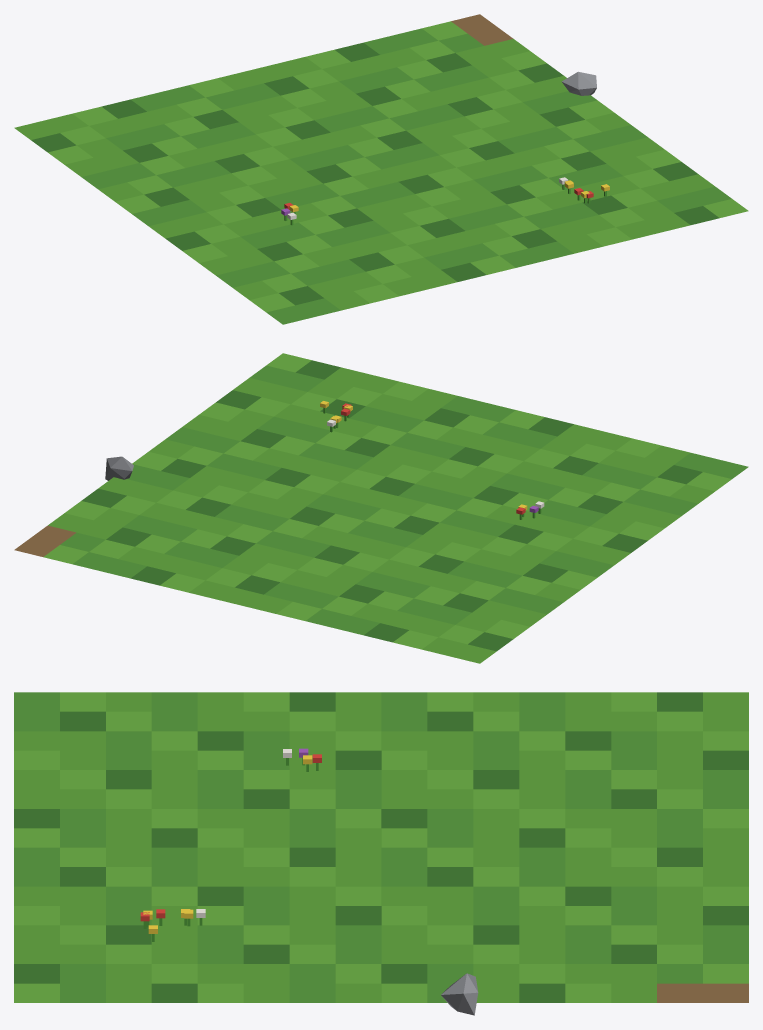
Rendered from chunk_5_7.glb.
The picture shows the model from 3 angles, top to bottom: view 1: azimuth 30°, elevation 25°; view 2: azimuth 150°, elevation 25°; view 3: azimuth 270°, elevation 25°; orthographic projection. The views are drawn at different scales.
Parts seen in each view (by area): view 1: chunk_5_7; view 2: chunk_5_7; view 3: chunk_5_7.
Part boxes in pixels (box(x1,y1,x2,y2)): chunk_5_7: box(14, 14, 748, 324); chunk_5_7: box(14, 353, 748, 663); chunk_5_7: box(14, 692, 748, 1015).
Bounding box in the file's own units: 16.4 × 1.01 × 16.
